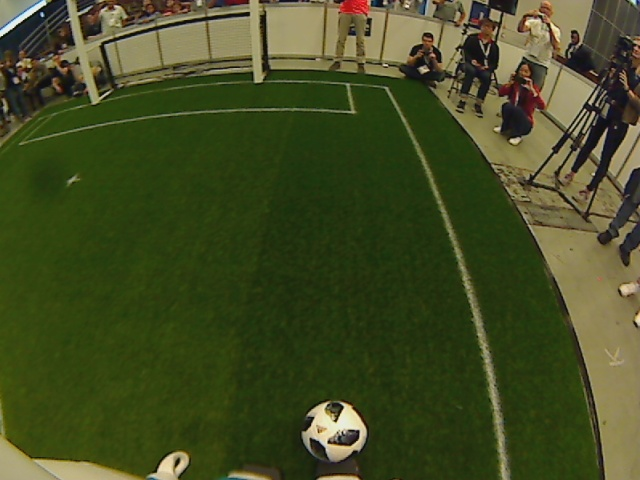ball: (298, 397, 369, 465)
